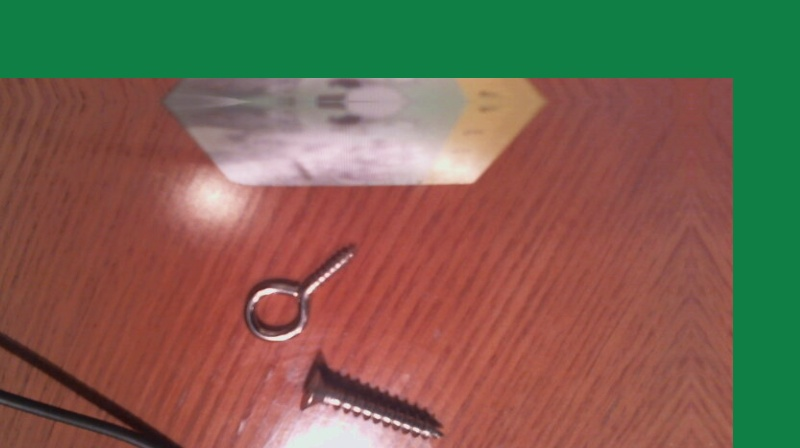O001: (240, 241, 363, 342)
S001: (295, 363, 443, 440)
